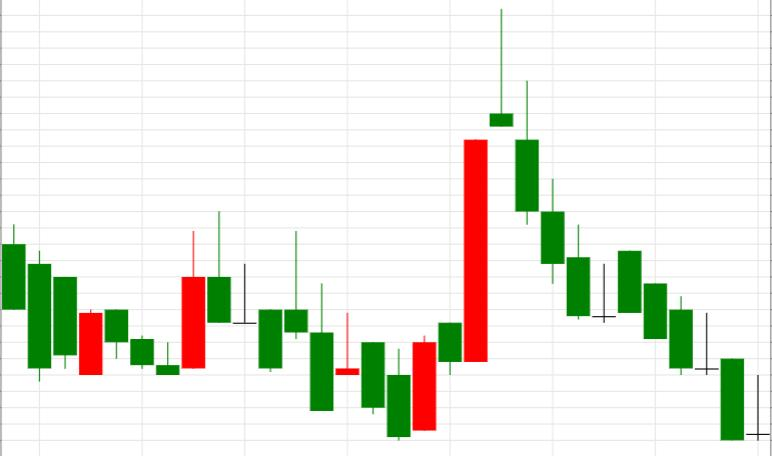evening_star_fall: (413, 9, 539, 431)
